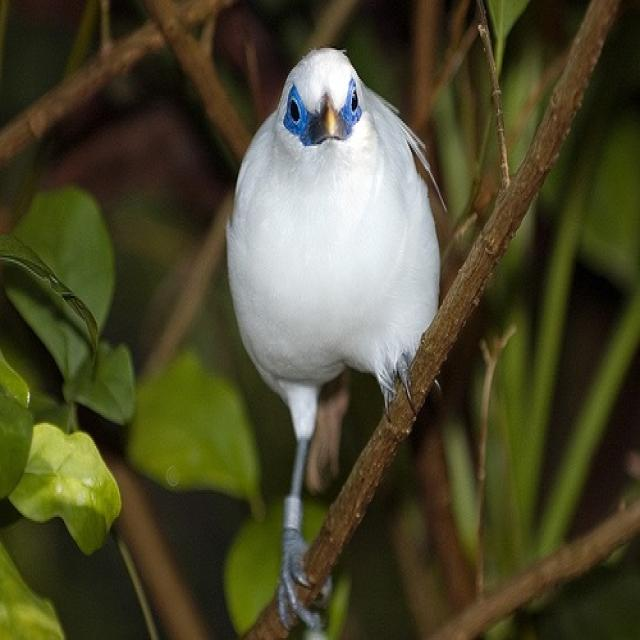bird: (222, 44, 453, 638)
